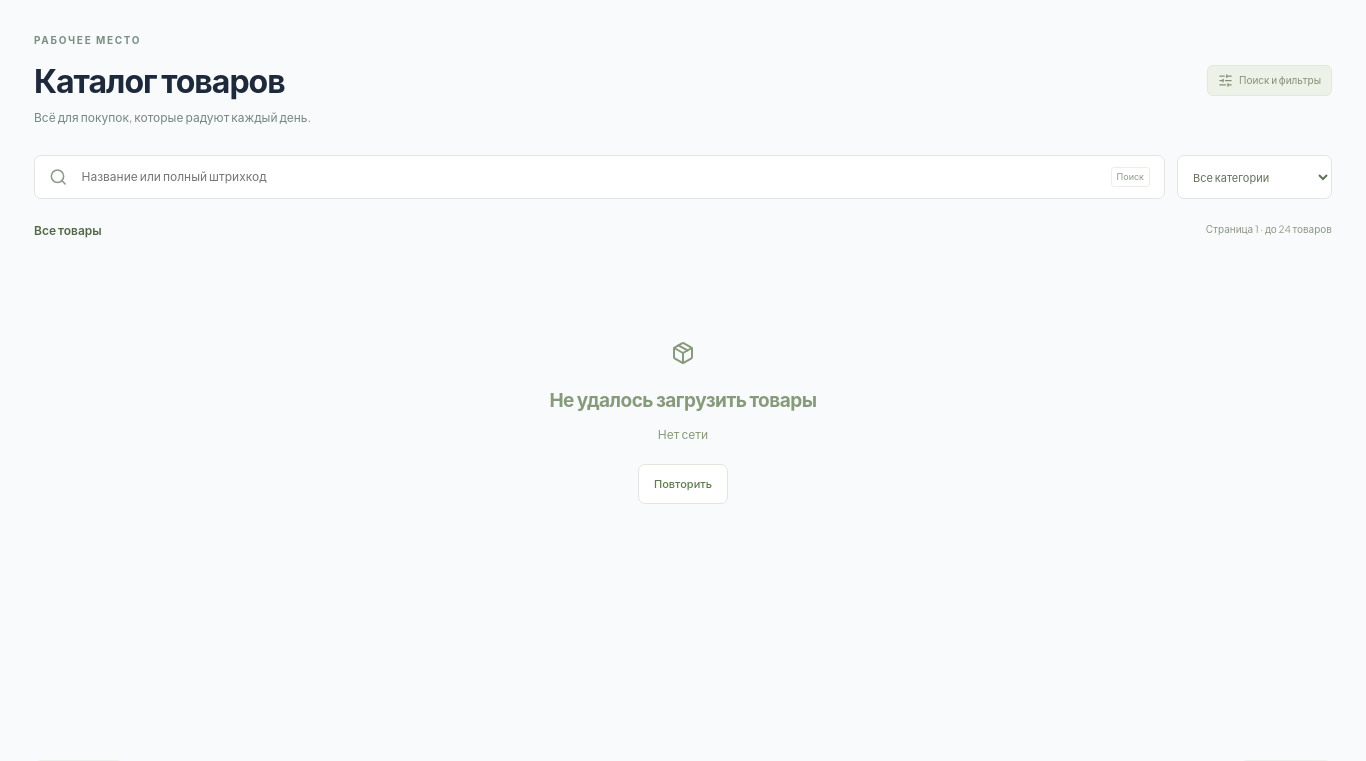
Test: catalog contract › shows an API failure and retries on demand
Check: the message shows "Нет сети", box [658,426,708,442]
Click the button "Повторить". click: (683, 484)
box: [638,464,728,504]
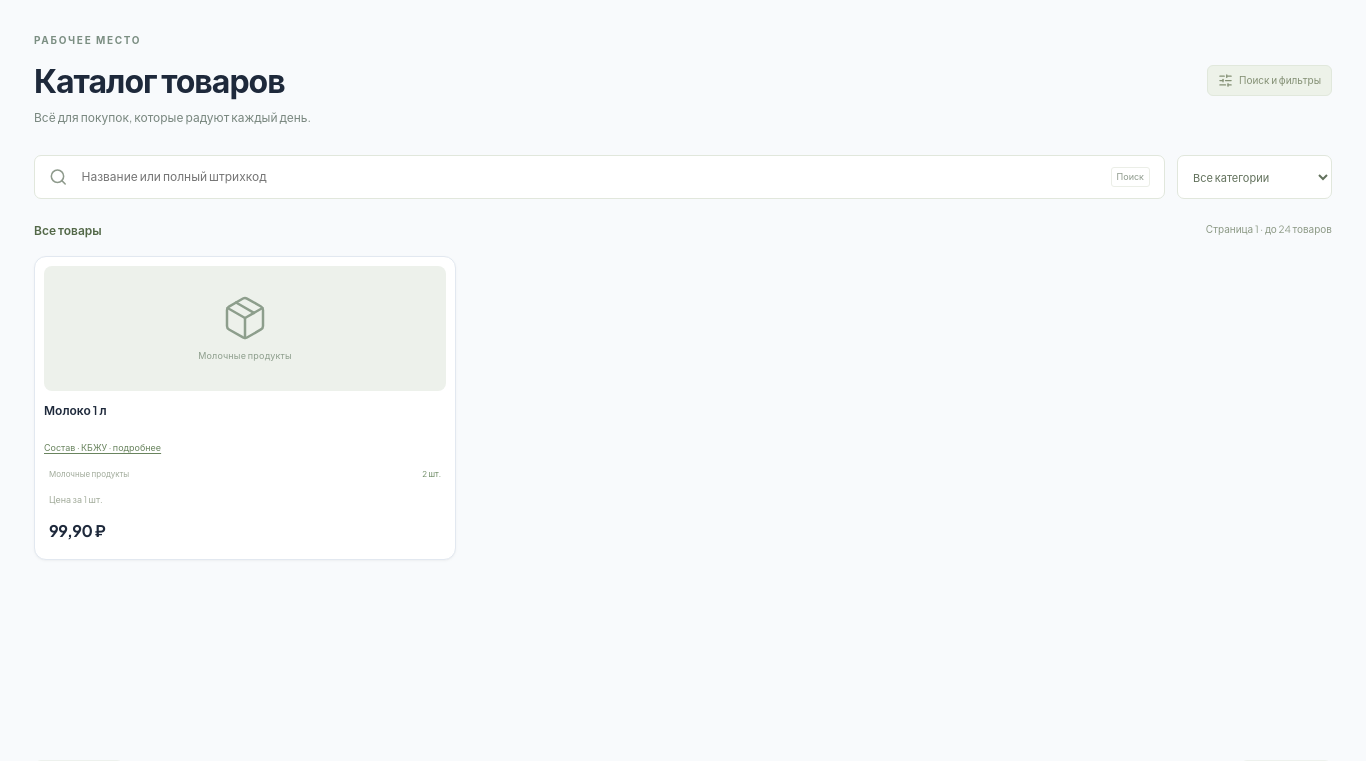
Check: the heading "Молоко 1 л" is shown, box [44,403,107,418]
